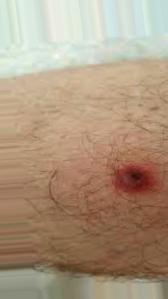Tick: (113, 160, 163, 198)
